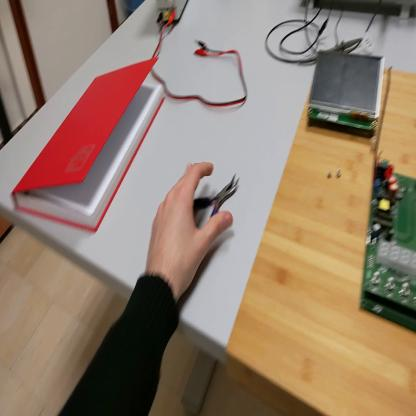hand: (146, 162, 232, 297)
low voltage board: (362, 159, 416, 336)
oscilloscope: (306, 3, 416, 17)
oscilloscope probe tip: (301, 38, 364, 66)
pliers: (197, 172, 243, 219)
power supply: (158, 1, 188, 28)
register: (12, 58, 167, 234)
working area: (227, 58, 416, 415)
